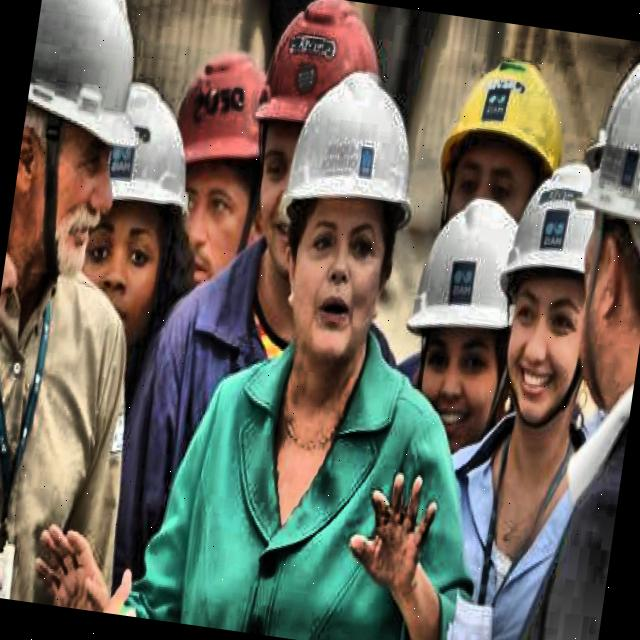helmet: (263, 63, 433, 375), (233, 0, 387, 281), (45, 64, 198, 341), (4, 0, 149, 292), (394, 189, 536, 456), (483, 149, 612, 435), (547, 38, 640, 417), (423, 52, 572, 274), (154, 38, 278, 300)
